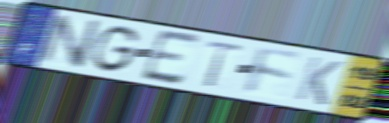E: (138, 28, 204, 88)
F: (243, 44, 305, 97)
G: (89, 24, 142, 75)
K: (292, 54, 344, 108)
N: (35, 13, 105, 71)
T: (202, 38, 247, 89)
